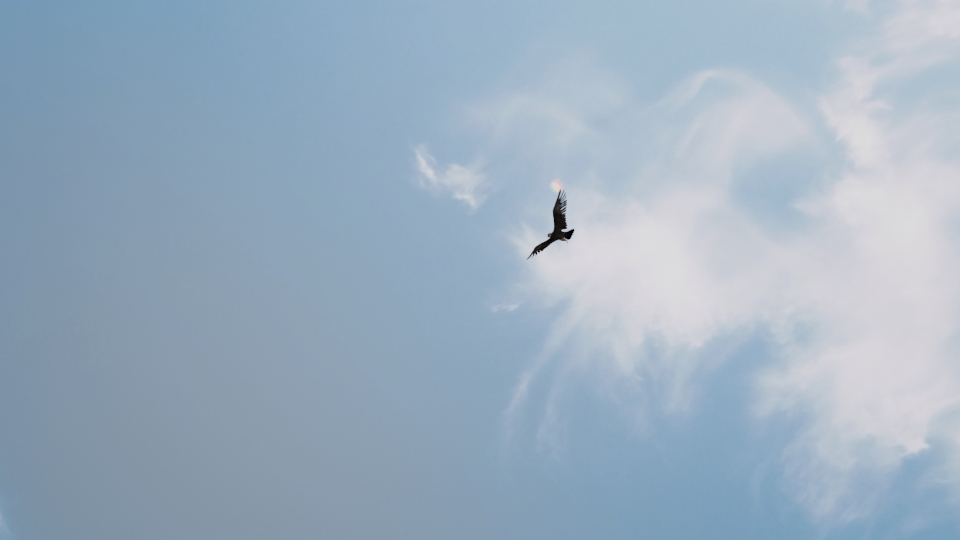bird: (527, 184, 573, 255)
